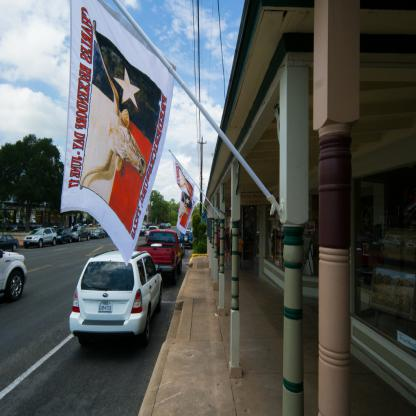Car: (0, 222, 108, 310), (70, 251, 164, 340), (180, 230, 193, 248), (140, 226, 145, 231), (161, 223, 165, 227), (168, 223, 170, 227), (165, 225, 168, 227)
